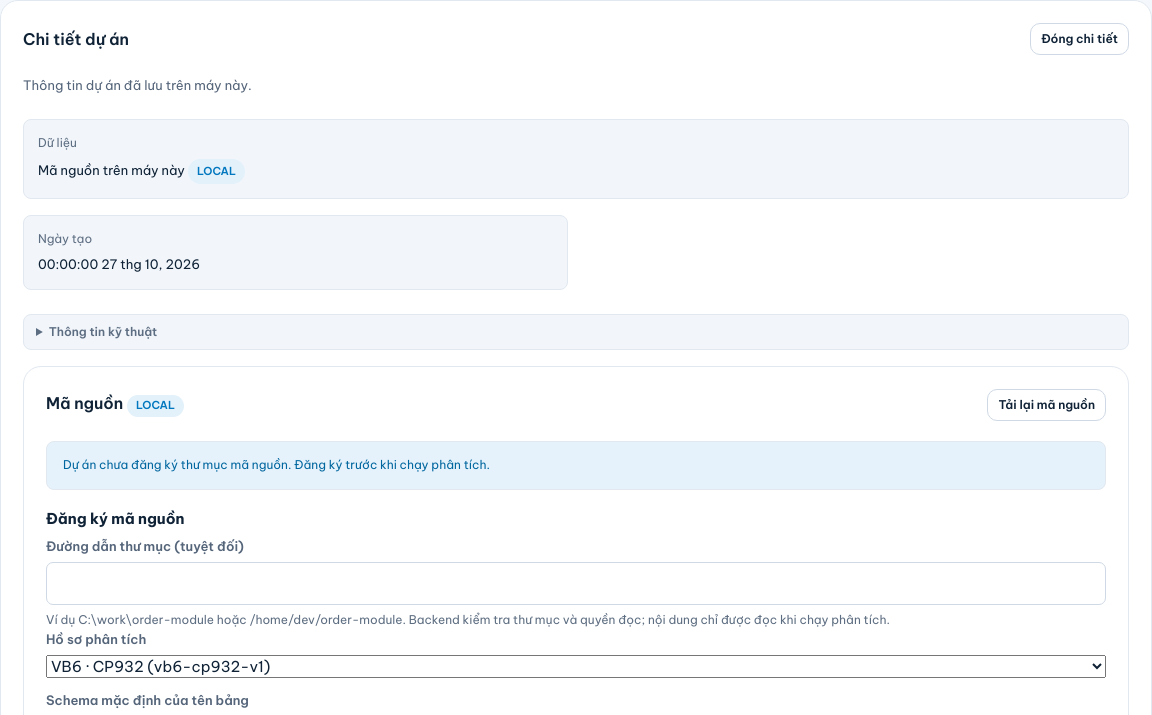
Test: Source registration form (F01) › F01-AC02 keeps the input and shows a safe message for SOURCE_REVISION_CONFLICT
Type "D:\\work\\order-module" into the field labelled "Đường dẫn thư mục (tuyệt đối)". click: (576, 583)
box: [46,562,1106,605]
(page scrolled)
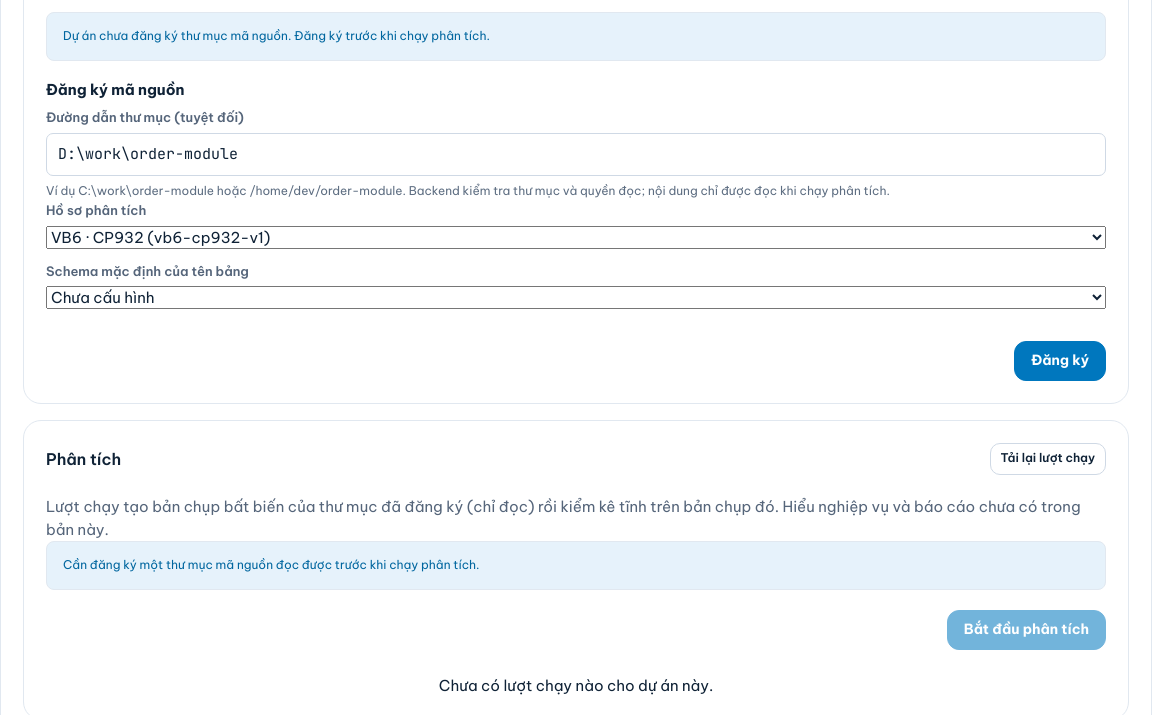
Click the button "Đăng ký". click: click(1060, 361)
box: [1014,341,1106,381]
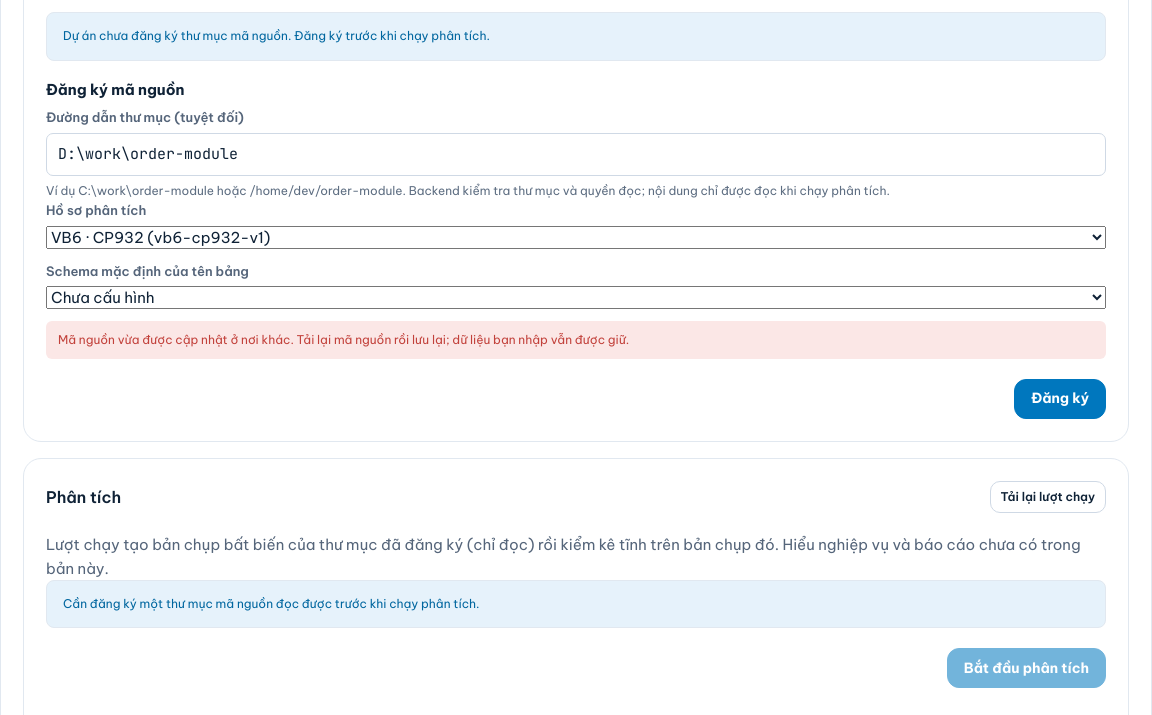
Expected: the button "Bắt đầu phân tích" is disabled, [947,648,1106,688]
Expected: the text "vừa được cập nhật ở nơi khác" is shown, [58,332,629,347]
